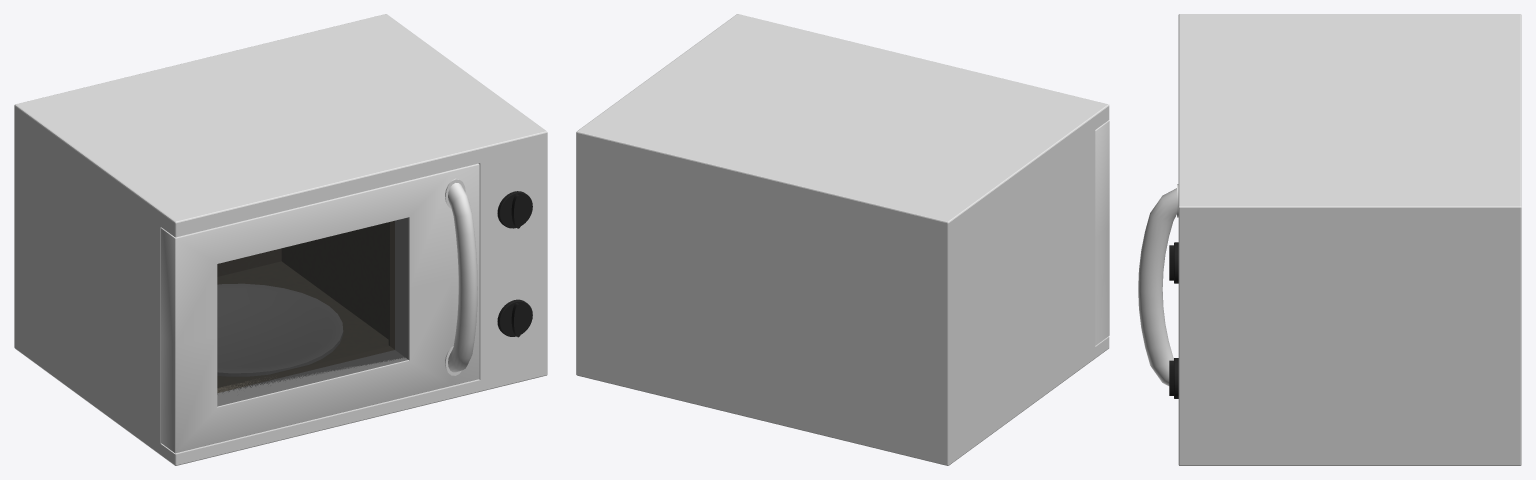
File: MicrowaveOven02.fbx
3 views of the same model, side by side, from view 1: azimuth 30°, elevation 25°; view 2: azimuth 150°, elevation 25°; view 3: azimuth 270°, elevation 25° (orthographic). The views are drawn at different scales.
Visible parts, largest first — view 1: MicrowaveOven02, MicrowaveOven02_Door, MicrowaveOven02Glass, MicrowaveOven02_Plate, MicrowaveOven02_Knob01, MicrowaveOven02_Knob02; view 2: MicrowaveOven02, MicrowaveOven02_Door; view 3: MicrowaveOven02, MicrowaveOven02_Door.
Boxes of the visible parts, x1,y1,x2,y2 form: MicrowaveOven02: [14, 14, 547, 465]; MicrowaveOven02_Door: [161, 163, 479, 453]; MicrowaveOven02Glass: [217, 217, 408, 406]; MicrowaveOven02_Plate: [217, 284, 342, 376]; MicrowaveOven02_Knob01: [497, 191, 532, 228]; MicrowaveOven02_Knob02: [497, 299, 532, 337]; MicrowaveOven02: [576, 14, 1109, 465]; MicrowaveOven02_Door: [1095, 120, 1109, 345]; MicrowaveOven02: [1178, 14, 1521, 465]; MicrowaveOven02_Door: [1138, 184, 1178, 385].
Bounding box in the file's own units: 53.6 × 33.58 × 44.95.
